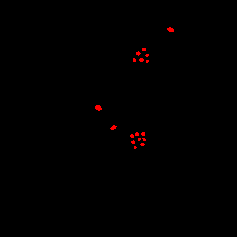Target: (95, 105, 102, 111), (167, 27, 174, 32), (110, 125, 117, 130), (136, 51, 141, 56), (139, 58, 144, 62), (135, 132, 139, 136), (141, 132, 145, 136), (130, 134, 134, 138), (131, 140, 135, 144), (140, 143, 145, 146), (142, 48, 146, 51), (145, 54, 149, 57), (133, 58, 136, 62), (142, 138, 146, 141), (146, 60, 149, 63), (138, 138, 141, 141), (134, 146, 137, 149)
